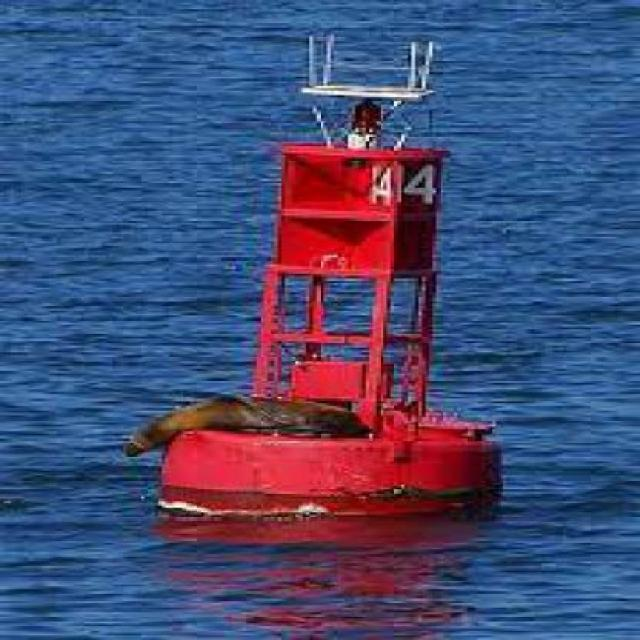buoy: (135, 33, 518, 518)
